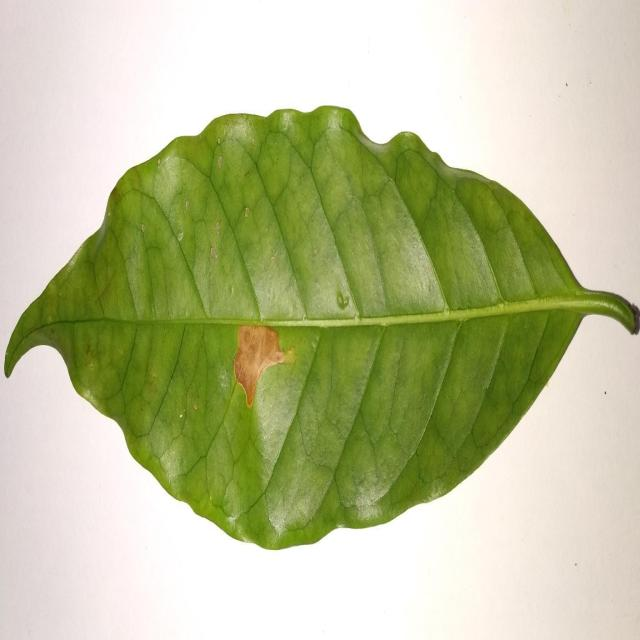miner: (234, 325, 295, 408)
